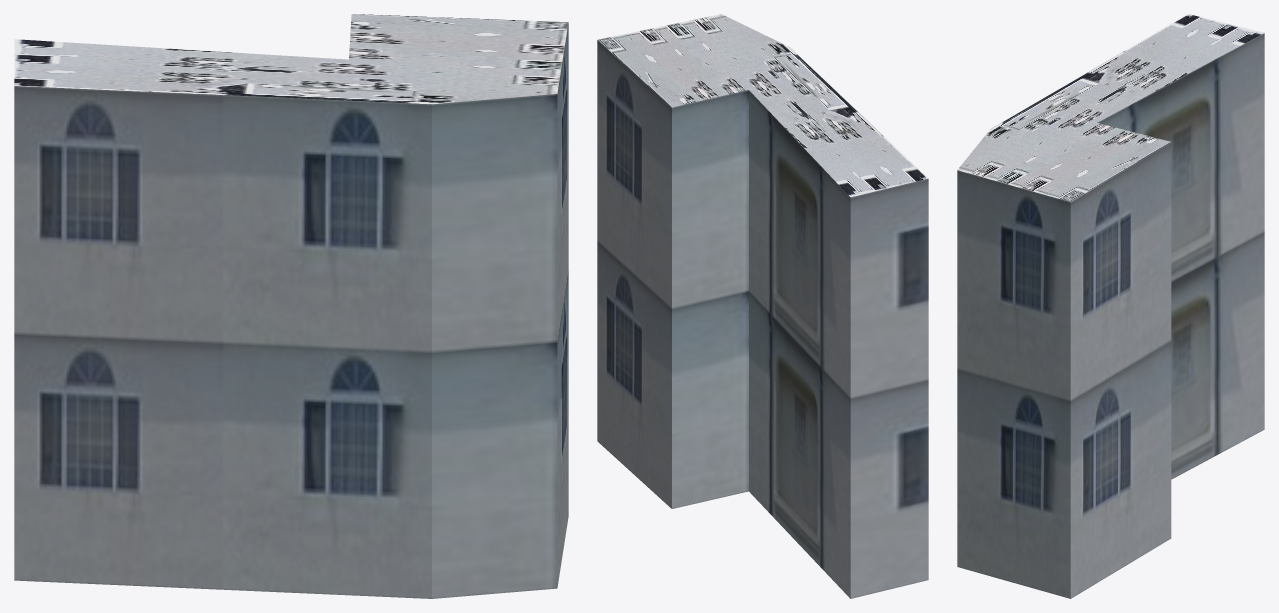
The model's file is ResTex__4127.fbx.
3 renders of one model, left to right at view 1: azimuth 30°, elevation 25°; view 2: azimuth 150°, elevation 25°; view 3: azimuth 270°, elevation 25°, orthographic. The views are drawn at different scales.
Visible parts, largest first — view 1: CityEngineMaterial_17_m, CityEngineMaterial_8_m; view 2: CityEngineMaterial_17_m, CityEngineMaterial_8_m; view 3: CityEngineMaterial_17_m, CityEngineMaterial_8_m.
Part boxes in pixels (bbox=[...]): CityEngineMaterial_17_m: bbox=[14, 23, 568, 598]; CityEngineMaterial_8_m: bbox=[14, 14, 568, 104]; CityEngineMaterial_17_m: bbox=[597, 40, 928, 598]; CityEngineMaterial_8_m: bbox=[597, 14, 927, 197]; CityEngineMaterial_17_m: bbox=[957, 33, 1264, 598]; CityEngineMaterial_8_m: bbox=[957, 14, 1264, 202].
Bounding box in the file's own units: 6.11 × 6 × 4.22.
Materials: 2 (2 with a texture image).
